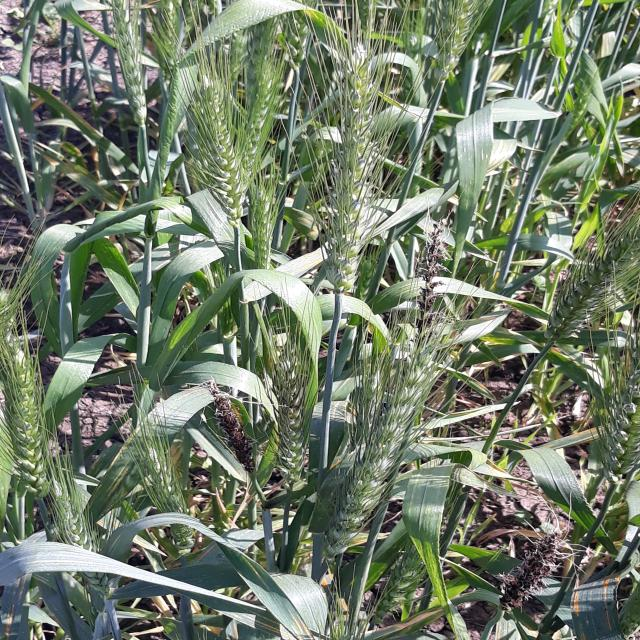loose_charred: (401, 213, 481, 382), (181, 381, 289, 496), (484, 526, 584, 622)
yellow_rust: (31, 150, 147, 218), (345, 602, 465, 640), (29, 94, 114, 141), (82, 461, 158, 513), (96, 518, 168, 558), (252, 600, 317, 640), (472, 454, 534, 489), (476, 516, 544, 543), (282, 245, 336, 278), (290, 207, 330, 238), (494, 622, 562, 640), (186, 537, 225, 566), (144, 597, 185, 621), (164, 436, 190, 468), (215, 619, 252, 640), (314, 568, 342, 587)
